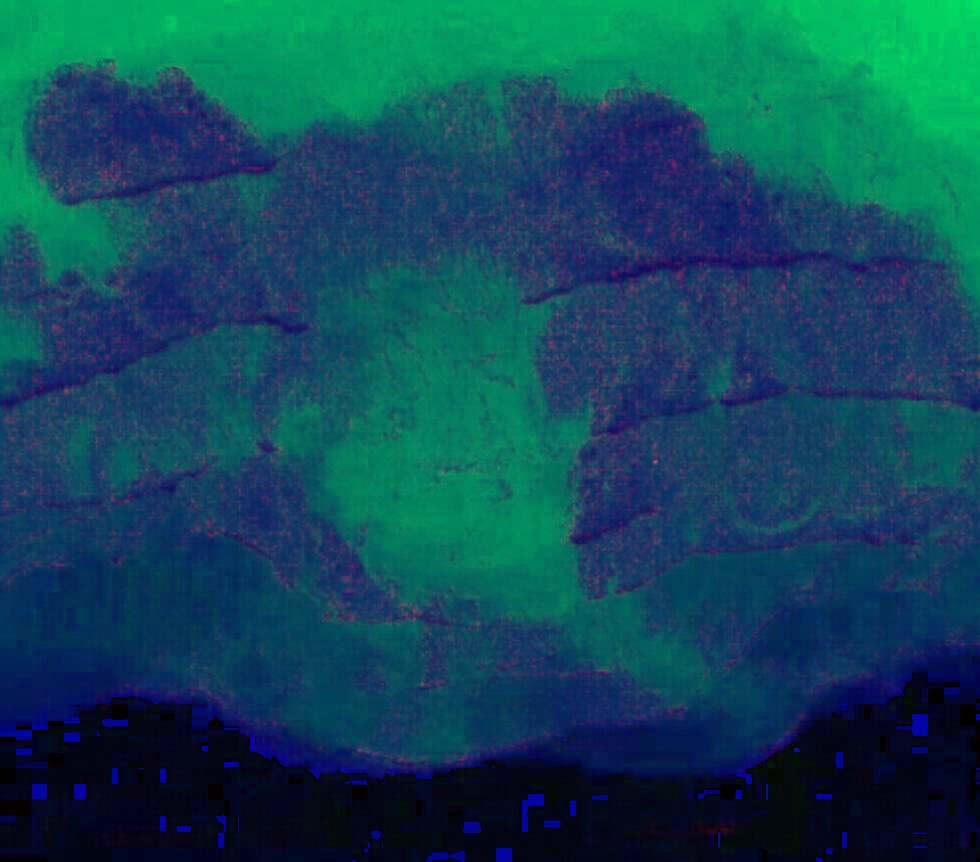rip_current: (141, 201, 692, 689)
